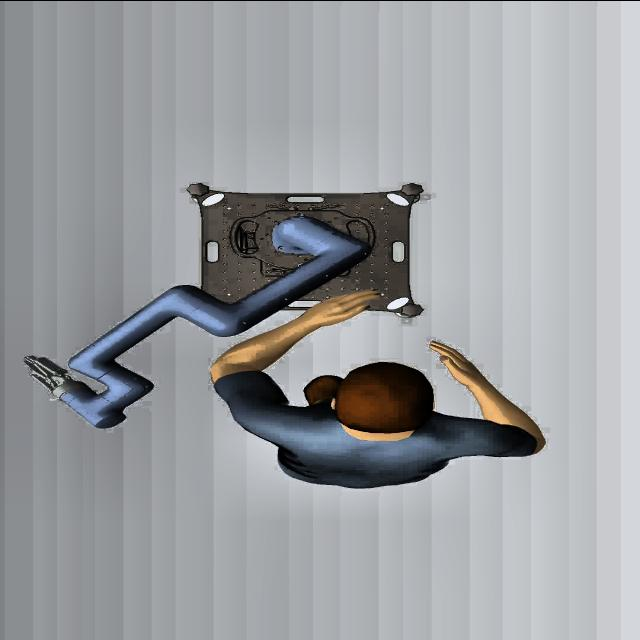human: (208, 288, 546, 488)
robot: (7, 210, 379, 435)
